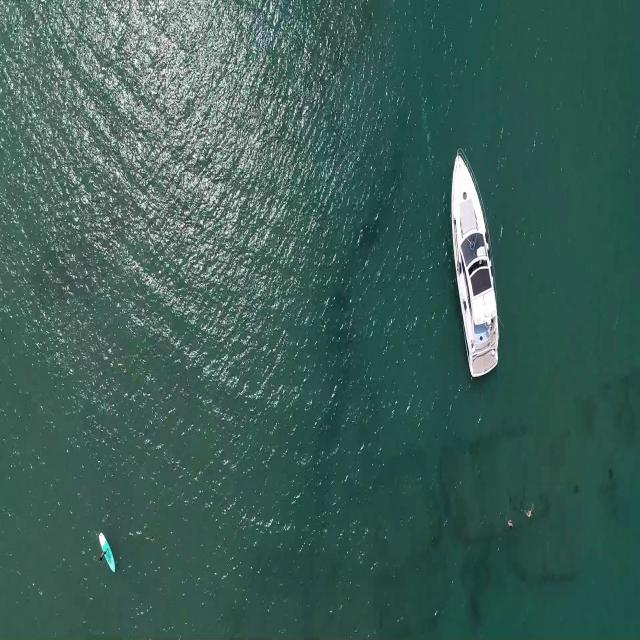boat: (448, 145, 502, 383)
person: (523, 504, 536, 518), (98, 547, 109, 562), (506, 518, 514, 528)
surfboard: (99, 528, 116, 578)
